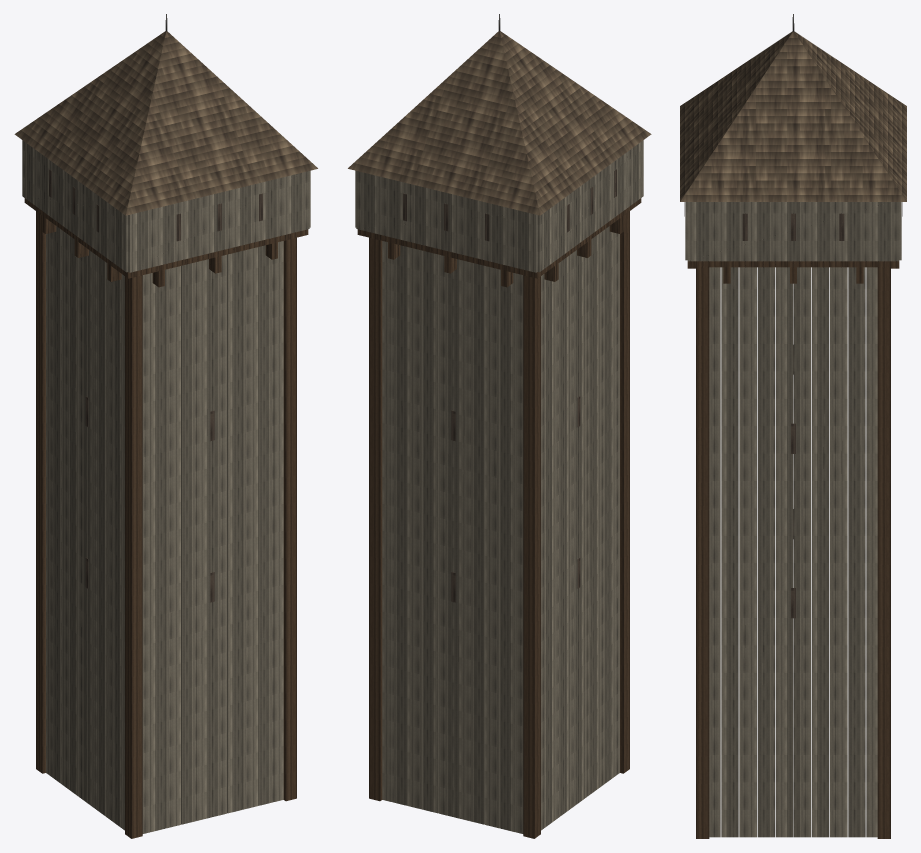
The model's file is Tower_Rampart_Wood_1.gltf.
3 views of the same model, side by side, from view 1: azimuth 30°, elevation 25°; view 2: azimuth 150°, elevation 25°; view 3: azimuth 270°, elevation 25° (orthographic).
Visible parts, largest first — view 1: Tower_Rampart_Wood_1; view 2: Tower_Rampart_Wood_1; view 3: Tower_Rampart_Wood_1.
Boxes of the visible parts, x1=… form: Tower_Rampart_Wood_1: x1=14, y1=14, x2=317, y2=838; Tower_Rampart_Wood_1: x1=348, y1=14, x2=651, y2=838; Tower_Rampart_Wood_1: x1=680, y1=14, x2=906, y2=838.
Bounding box in the file's own units: 7.5 × 28.6 × 7.5.
5 materials, 5 textured.
